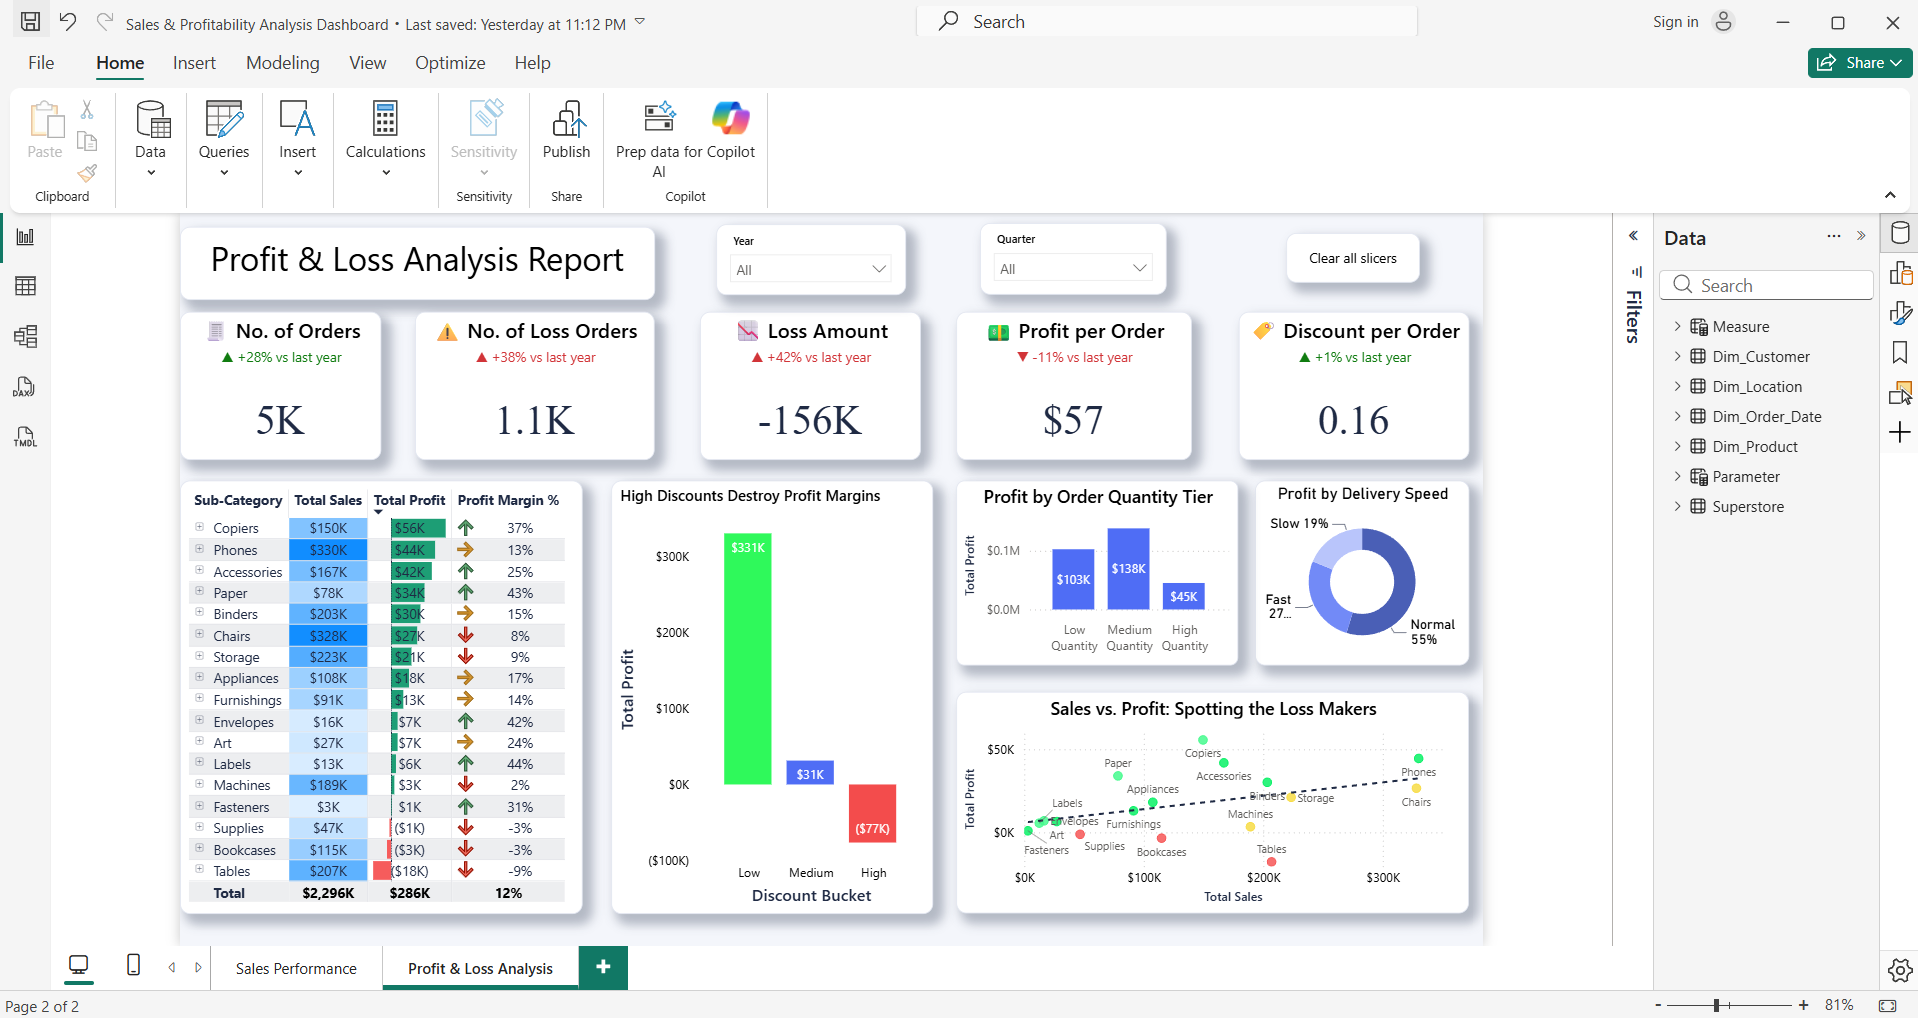

The page's visual inventory and layout, read from the dashboard file:
{"tool":"powerbi","page":{"name":"Profit & Loss Analysis","canvas":[1280,720],"ordinal":1},"visuals":[{"type":"donutChart","title":"Profit by Delivery Speed","fields":{"Category":["Superstore.Delivery Time Bucket"],"Y":["Measure.Total Profit"]},"box":[1054,252.8,211,181.6],"z":3000},{"type":"clusteredColumnChart","title":"High Discounts Destroy Profit Margins","fields":{"Category":["Superstore.Discount Bucket"],"Y":["Measure.Total Profit"]},"box":[422.7,252.5,316,435.7],"z":4000},{"type":"scatterChart","title":"Sales vs. Profit: Spotting the Loss Makers","fields":{"Category":["Superstore.Sub-Category"],"X":["Measure.Total Sales"],"Y":["Measure.Total Profit"]},"box":[761.8,450.1,503.5,238.1],"z":5000},{"type":"clusteredColumnChart","title":"Profit by Order Quantity Tier","fields":{"Category":["Superstore.Quantity Bucket"],"Y":["Measure.Total Profit"]},"box":[762,252.8,277.3,181.6],"z":6000},{"type":"actionButton","box":[1087.8,26,131.3,49.1],"z":7000},{"type":"slicer","fields":{"Values":["Dim_Order_Date.Quarter Name"]},"box":[844,10.1,194.8,75],"z":8000},{"type":"textbox","box":[36.1,13,512.2,72.1],"z":9000},{"type":"cardVisual","title":"🧾 No. of Orders","fields":{"Data":["Measure.No. of Orders"]},"box":[0,96.7,194.8,132.7],"z":10000},{"type":"cardVisual","title":"⚠️ No. of Loss Orders","fields":{"Data":["Measure.No. of Loss Orders"]},"box":[255.4,98.1,215,132.7],"z":11000},{"type":"cardVisual","title":"📉 Loss Amount","fields":{"Data":["Measure.Loss Amount"]},"box":[522.3,95.2,216.4,134.2],"z":12000},{"type":"cardVisual","title":"🏷️ Discount per Order","fields":{"Data":["Measure.Discount per Order"]},"box":[1054.7,96.7,210.6,131.3],"z":13000},{"type":"cardVisual","title":"💵 Profit per Order","fields":{"Data":["Measure.Profit per Order"]},"box":[802.2,101,196.2,129.8],"z":14000},{"type":"pivotTable","fields":{"Rows":["Superstore.Sub-Category","Superstore.Segment"],"Values":["Measure.Total Sales","Measure.Total Profit","Measure.Profit Margin %"]},"box":[0,252.5,395.3,435.7],"z":15000},{"type":"slicer","fields":{"Values":["Dim_Order_Date.Year"]},"box":[591.5,13,210.6,72.1],"z":15001}]}

Visuals, with their boxes on the page's 1280x720 design canvas (x1, y1, x2, y2). These are canvas units, not pixel positions in the 1918x1018 screenshot, which may show the page scaled, cropped or inside an application window:
"Profit by Delivery Speed" donutChart: pyautogui.locateOnScreen(1054, 253, 1265, 434)
"High Discounts Destroy Profit Margins" clusteredColumnChart: pyautogui.locateOnScreen(423, 252, 739, 688)
"Sales vs. Profit: Spotting the Loss Makers" scatterChart: pyautogui.locateOnScreen(762, 450, 1265, 688)
"Profit by Order Quantity Tier" clusteredColumnChart: pyautogui.locateOnScreen(762, 253, 1039, 434)
actionButton: pyautogui.locateOnScreen(1088, 26, 1219, 75)
slicer - Dim_Order_Date.Quarter Name: pyautogui.locateOnScreen(844, 10, 1039, 85)
textbox: pyautogui.locateOnScreen(36, 13, 548, 85)
"🧾 No. of Orders" cardVisual: pyautogui.locateOnScreen(0, 97, 195, 229)
"⚠️ No. of Loss Orders" cardVisual: pyautogui.locateOnScreen(255, 98, 470, 231)
"📉 Loss Amount" cardVisual: pyautogui.locateOnScreen(522, 95, 739, 229)
"🏷️ Discount per Order" cardVisual: pyautogui.locateOnScreen(1055, 97, 1265, 228)
"💵 Profit per Order" cardVisual: pyautogui.locateOnScreen(802, 101, 998, 231)
pivotTable - Superstore.Sub-Category x Superstore.Segment: pyautogui.locateOnScreen(0, 252, 395, 688)
slicer - Dim_Order_Date.Year: pyautogui.locateOnScreen(592, 13, 802, 85)
